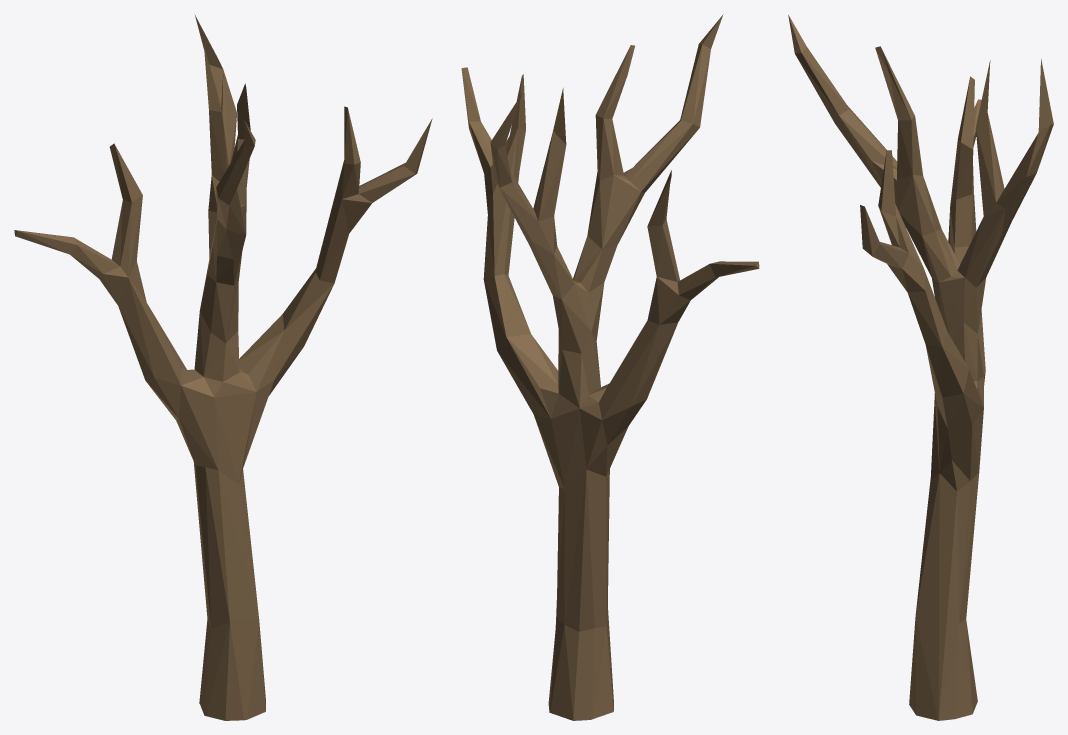
Rendered from Tree_Dead.fbx.
3 views of the same model, side by side, from view 1: azimuth 30°, elevation 25°; view 2: azimuth 150°, elevation 25°; view 3: azimuth 270°, elevation 25° (orthographic).
Visible parts, largest first — view 1: Tree_Dead; view 2: Tree_Dead; view 3: Tree_Dead.
Part boxes in pixels (x1,y1,x2,y2): Tree_Dead: (14, 14, 432, 720); Tree_Dead: (461, 14, 759, 720); Tree_Dead: (788, 14, 1053, 720).
Size of the model in its own units: 2.79 by 4.89 by 1.79.
